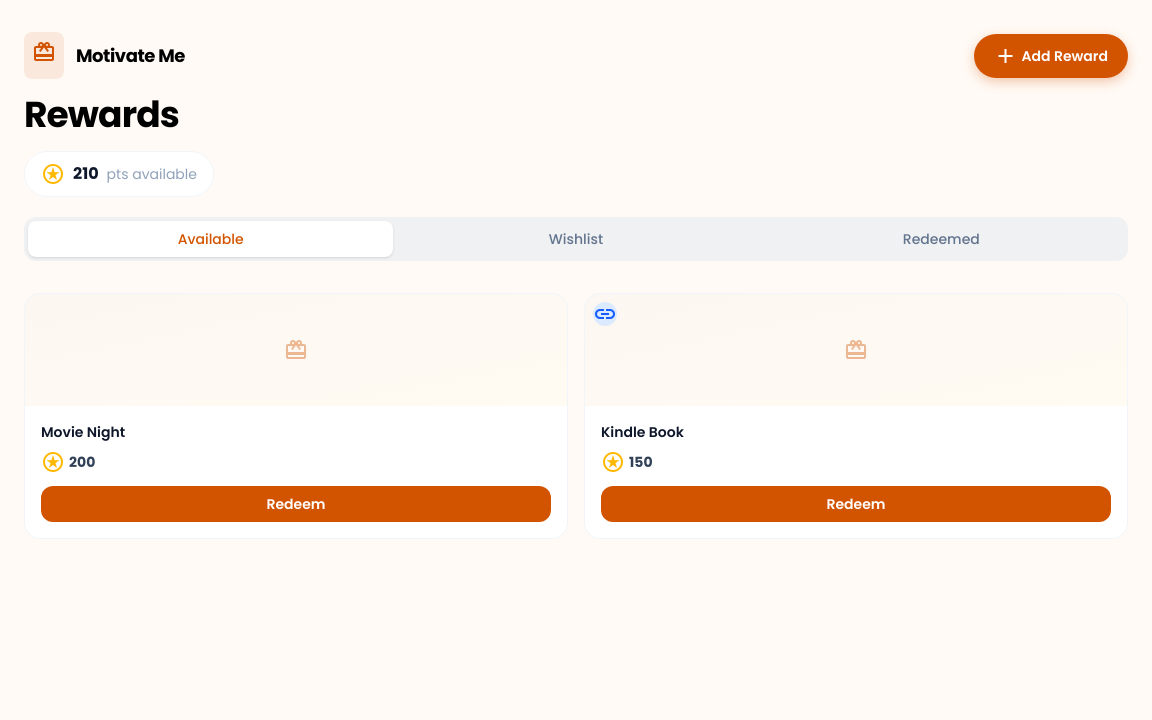
Rewards › shows wishlist rewards on wishlist tab
Click the button "wishlist".
click(576, 239)  # box [393, 221, 759, 257]
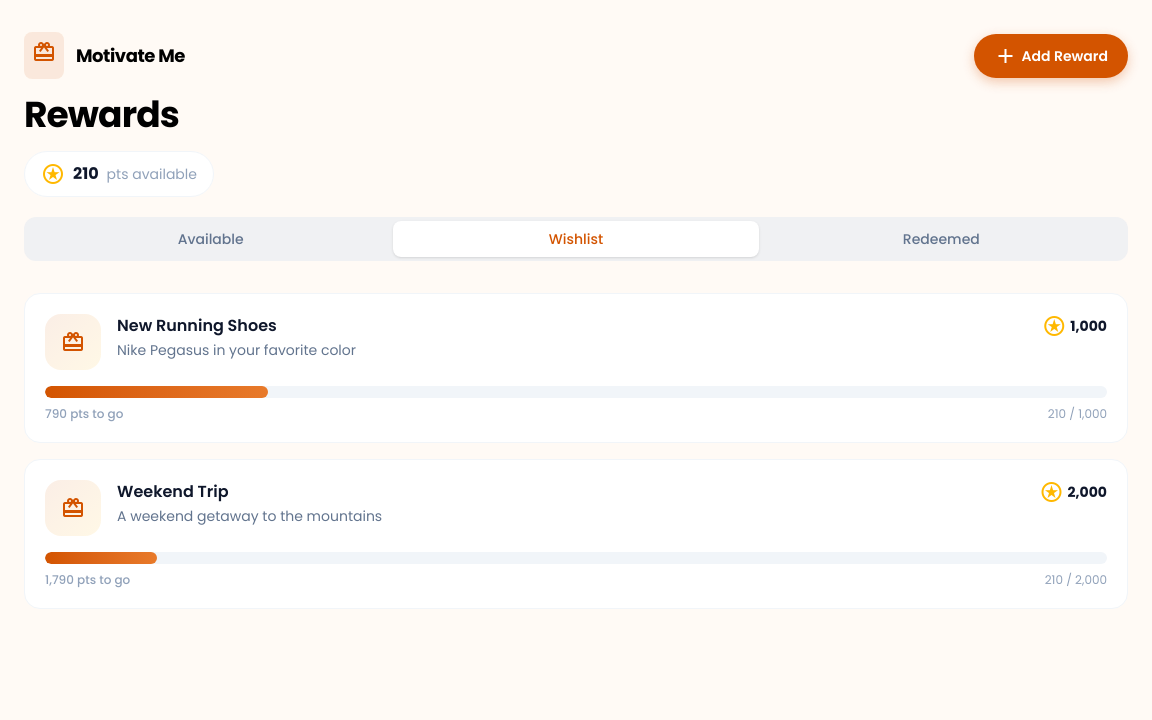
expect the heading "New Running Shoes" is shown: met, box [117, 314, 277, 337]
